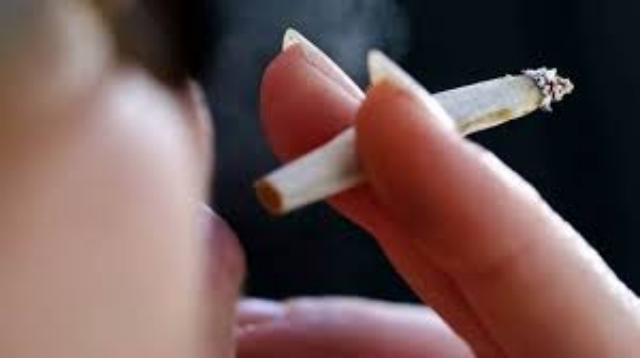Cigarette: (258, 68, 574, 214)
